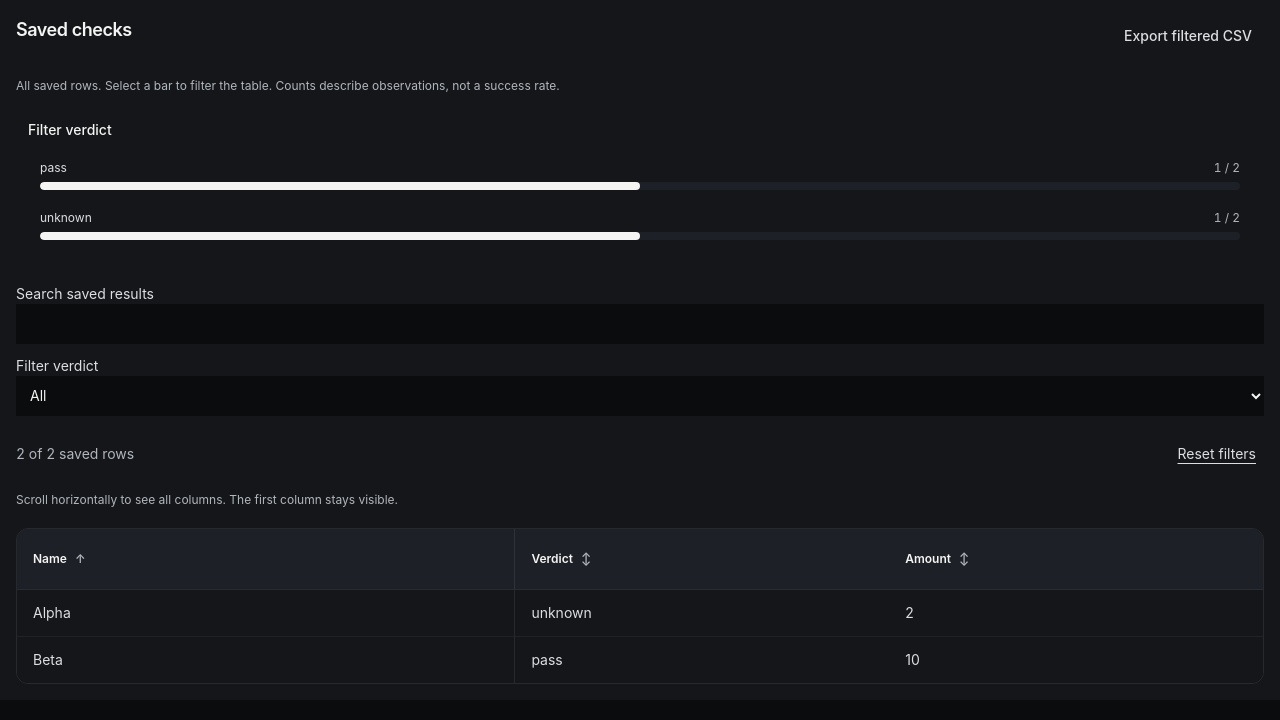
filters by chart, persists URL, restores back/forward, sorts and resets in en
The image size is (1280, 720).
Later steps or results of the test are not shown.
Click the button with aria-label "unknown · 1 / 2": x=66, y=217 [32,202,1248,248]
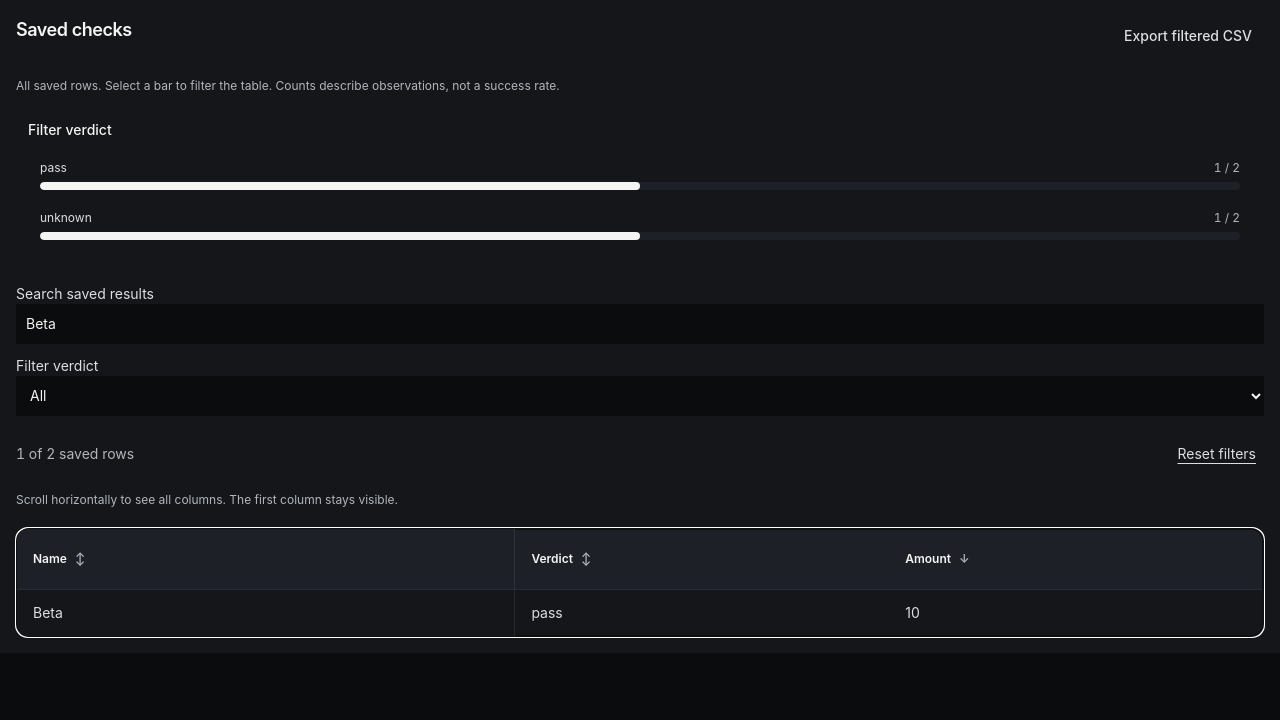
Expected: the text "Beta" is shown, [17,590,515,636]
Now the search field holds "Beta", box [16,304,1264,344]
Click the button "Reset filters": x=1217, y=454 [1170,436,1264,472]
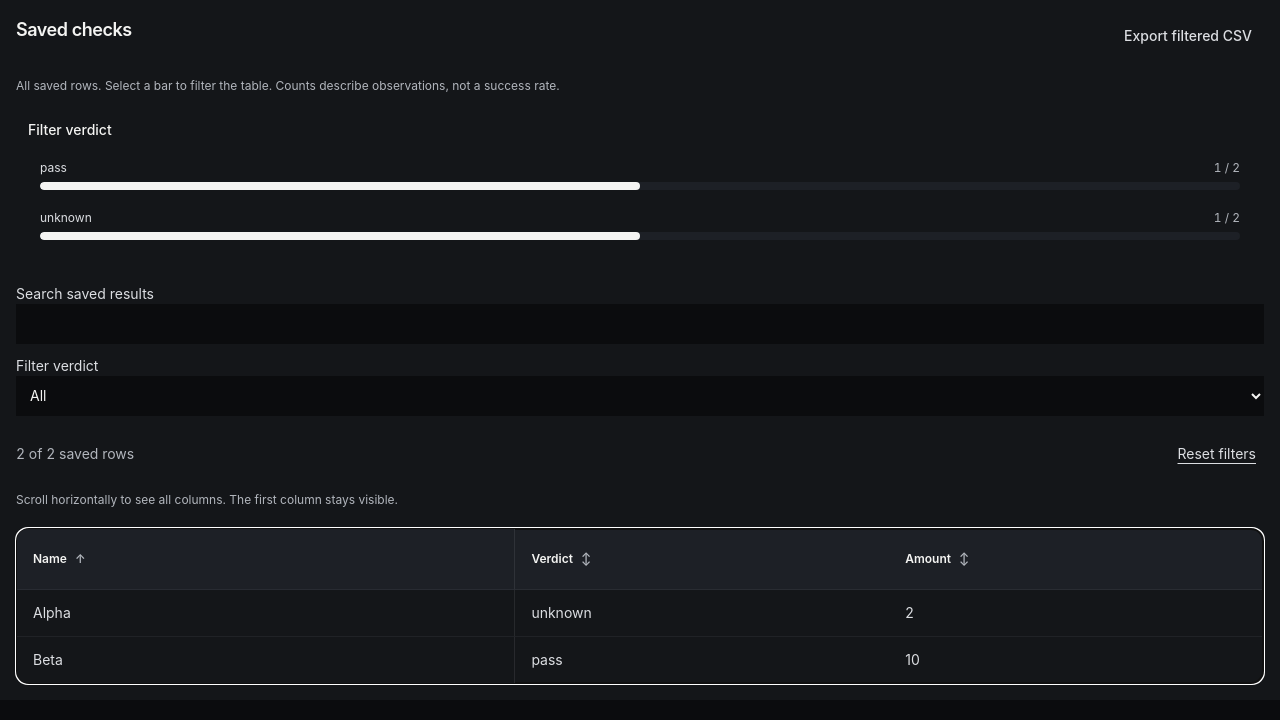
Expected: the search field is empty, [16,304,1264,344]
Now the text "Alpha" is shown, box [17,590,515,637]
